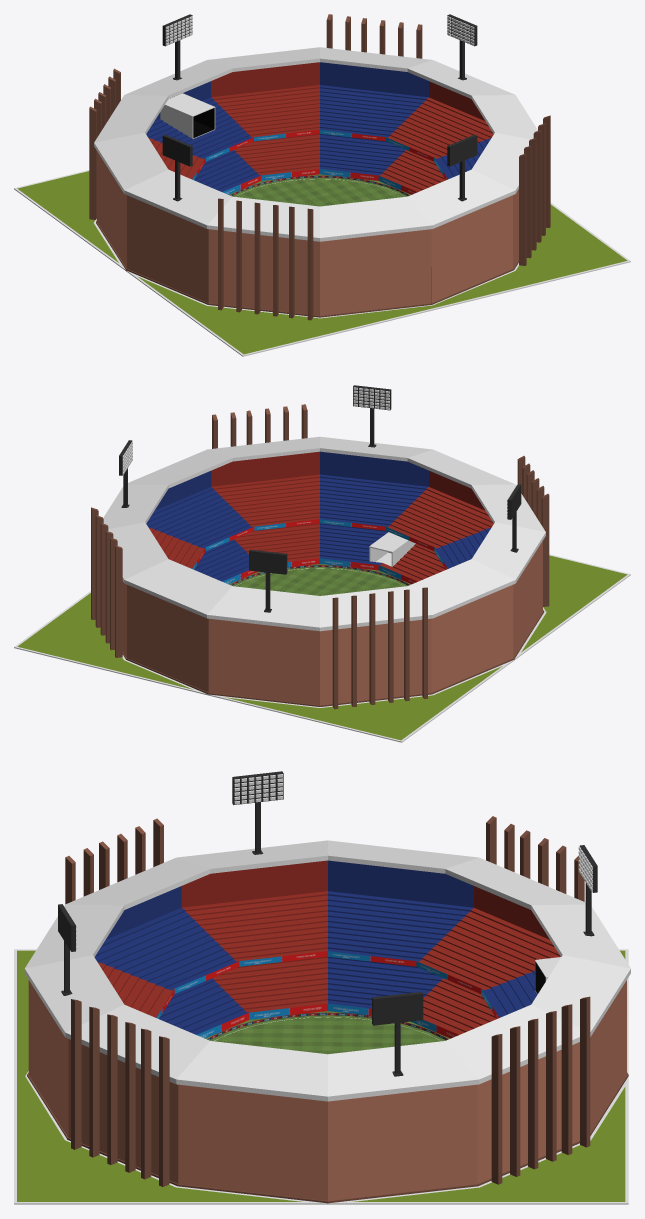
Rendered from cricket_stadium.glb.
3 views of the same model, one above another, from view 1: azimuth 30°, elevation 25°; view 2: azimuth 150°, elevation 25°; view 3: azimuth 270°, elevation 25° (orthographic). The views are drawn at different scales.
Visible parts, largest first — view 1: Stadium, Ground; view 2: Stadium, Ground; view 3: Stadium, Ground, Boundary Banner.
Part boxes in pixels (x1,y1,x2,y2): Stadium: (14,14,630,356); Ground: (229,174,410,206); Stadium: (14,385,630,742); Ground: (229,564,410,595); Stadium: (14,771,630,1204); Ground: (205,1011,450,1054); Boundary Banner: (207,1012,448,1040).
Bounding box in the file's own units: 224 × 78.46 × 228.
Materials: 13 (3 with a texture image).
